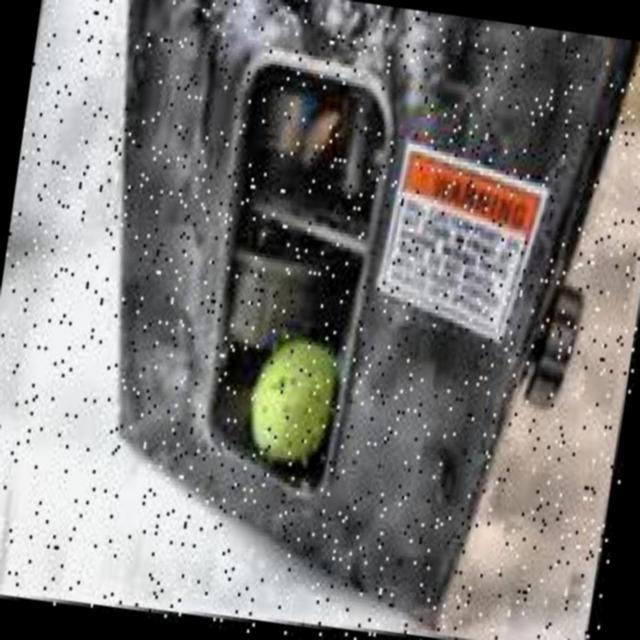tennis-ball: (242, 321, 350, 479)
